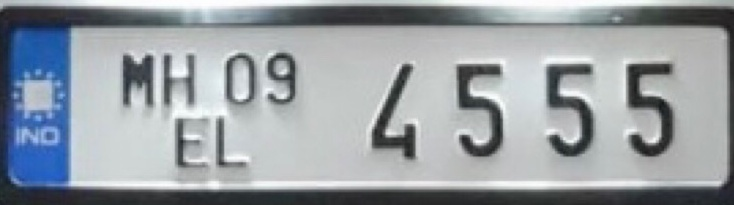character: (617, 55, 677, 156), (363, 56, 420, 160), (449, 56, 504, 158), (541, 56, 596, 158), (210, 110, 250, 171), (171, 110, 211, 170), (160, 47, 196, 109), (263, 47, 298, 108), (220, 49, 257, 105), (120, 50, 156, 105)
